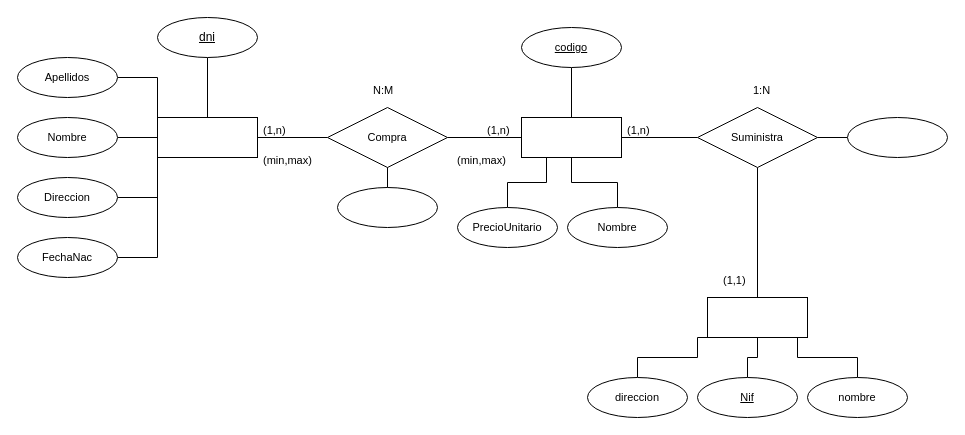
The diagram is 965 pixels wide and 435 high, and some of its shapes have lost their labels. Here are the shapes that lost their labels. From the top down, the centre of each, then its label:
At pixel 207 137: "Cliente".
At pixel 571 137: "Producto".
At pixel 897 137: "Fecha".
At pixel 387 207: "Cantidad".
At pixel 757 317: "Proveedor".
